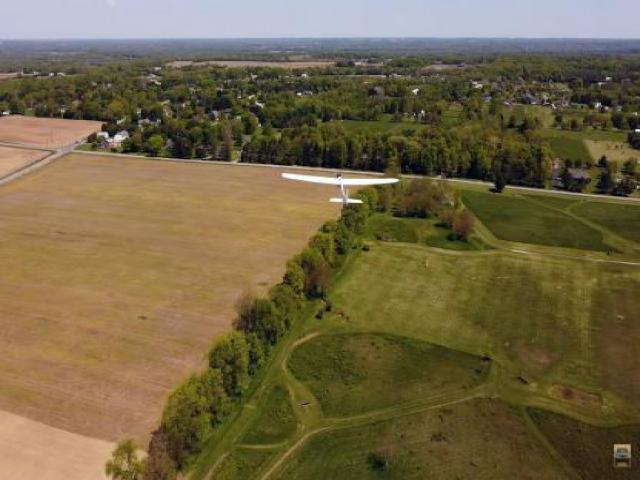uav: (274, 158, 406, 211)
